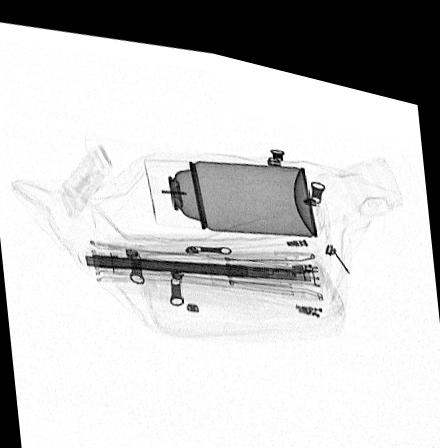Sprayer: (143, 150, 318, 221)
